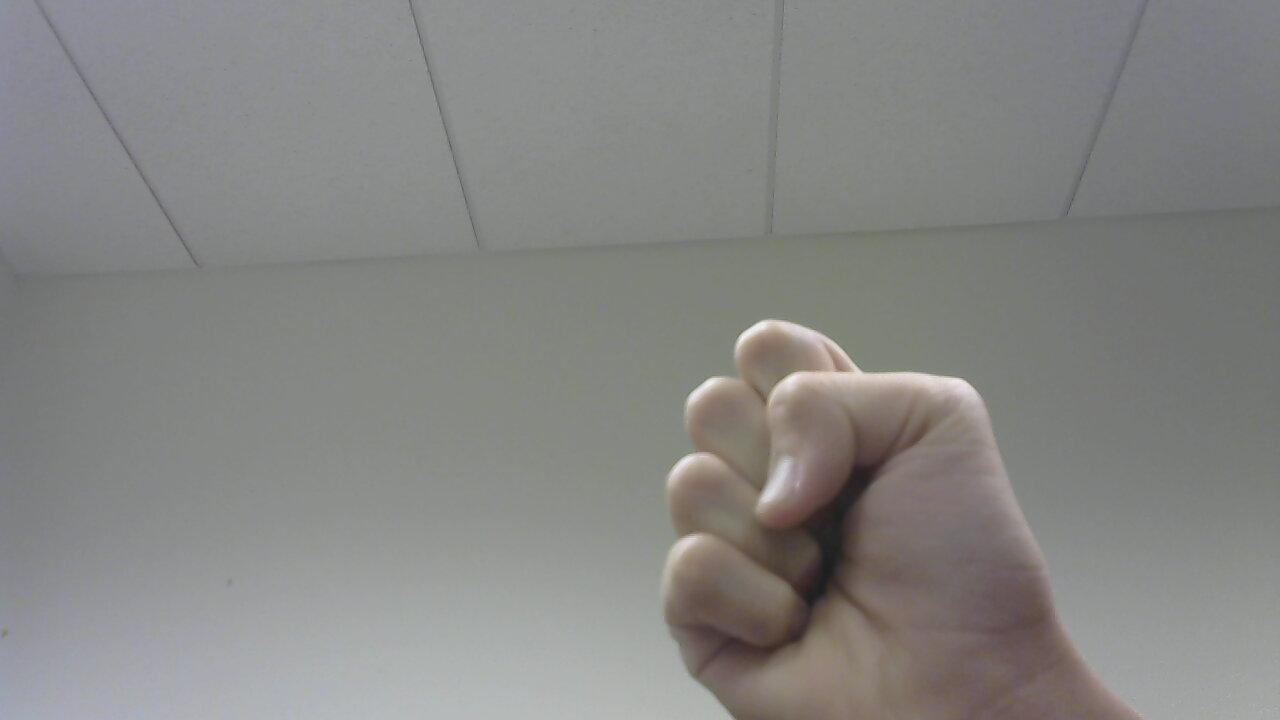fist: (653, 310, 1064, 717)
